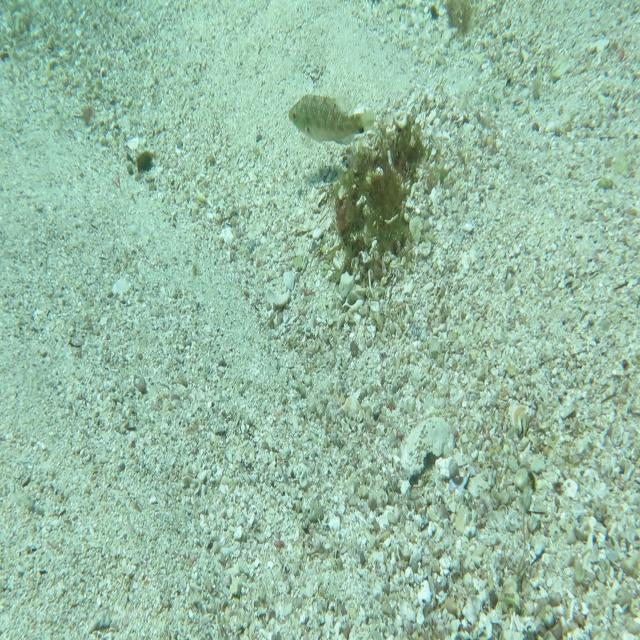SA: (286, 91, 376, 149)
core_nest: (376, 142, 411, 178)
nest: (331, 110, 431, 300)
vegetation: (445, 0, 475, 42), (134, 146, 156, 178), (80, 100, 96, 131)
